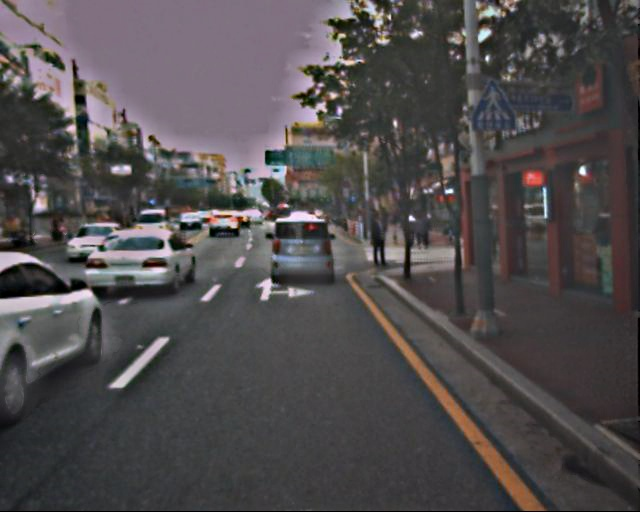person: (368, 211, 391, 268), (405, 217, 430, 248)
